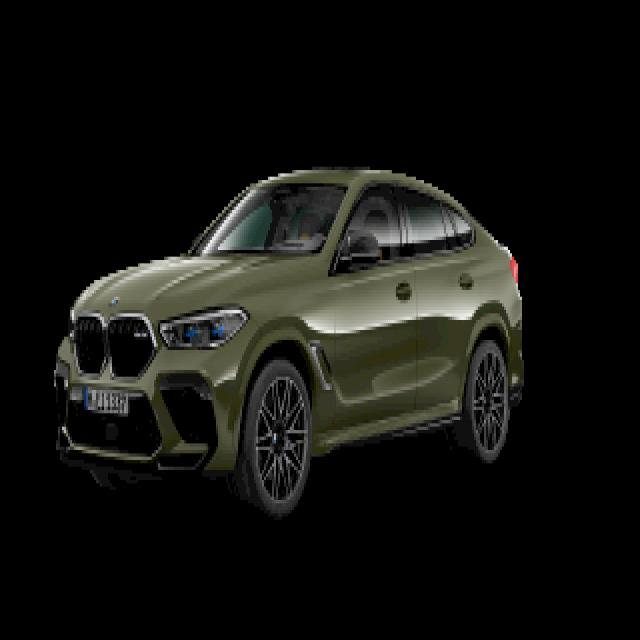yolov7-seg-car: (55, 166, 523, 521)
